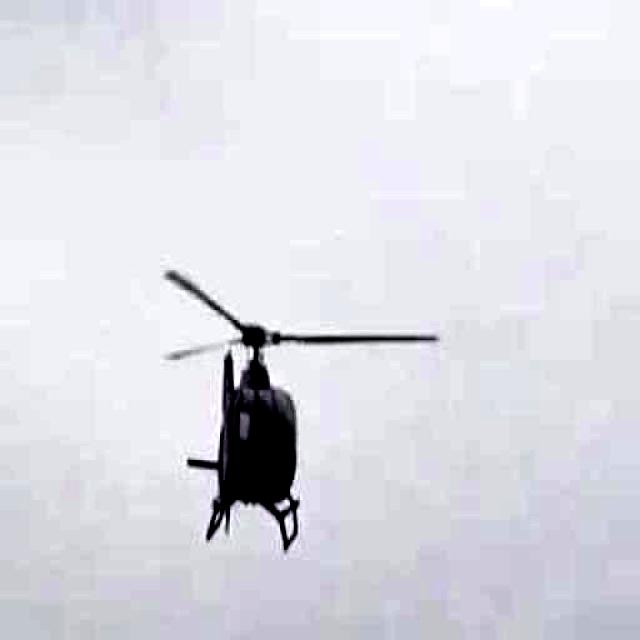drone: (78, 174, 439, 614)
